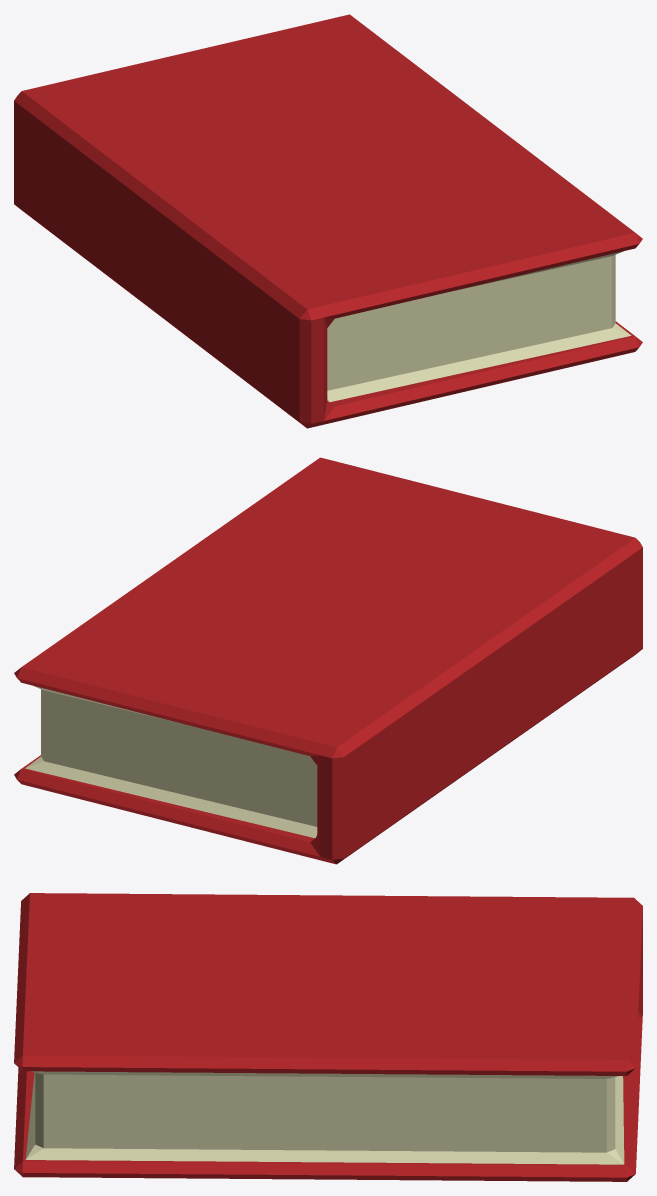
File: book-red.glb
3 views of the same model, one above another, from view 1: azimuth 30°, elevation 25°; view 2: azimuth 150°, elevation 25°; view 3: azimuth 270°, elevation 25° (orthographic). The views are drawn at different scales.
Visible parts, largest first — view 1: Cube.016; view 2: Cube.016; view 3: Cube.016.
Boxes of the visible parts, left/top/right/bottom form: Cube.016: left=14, top=14, right=642, bottom=428; Cube.016: left=14, top=457, right=642, bottom=864; Cube.016: left=14, top=893, right=642, bottom=1181.
Size of the model in its own units: 0.2076 by 0.0677 by 0.3164.
Materials: 1 (1 with a texture image).
